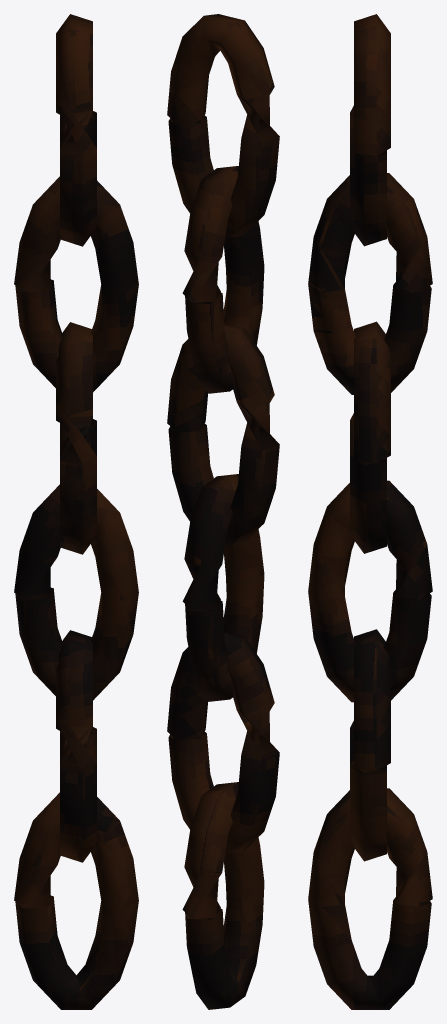
Rendered from fang_chain.obj.
3 renders of one model, left to right at view 1: azimuth 90°, elevation 25°; view 2: azimuth 150°, elevation 25°; view 3: azimuth 270°, elevation 25°, orthographic.
Visible parts, largest first — view 1: part0; view 2: part0; view 3: part0.
Part boxes in pixels (x1,y1,x2,y2): part0: [14, 14, 138, 1009]; part0: [167, 14, 279, 1009]; part0: [308, 14, 432, 1009].
Bounding box in the file's own units: 0.1205 × 1.07 × 0.1225.
